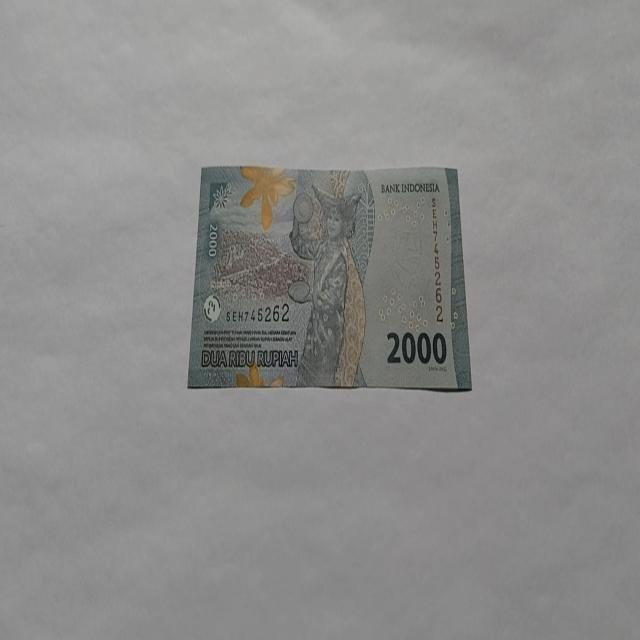dua ribu rupiah: (186, 162, 472, 392), (287, 182, 367, 388)
